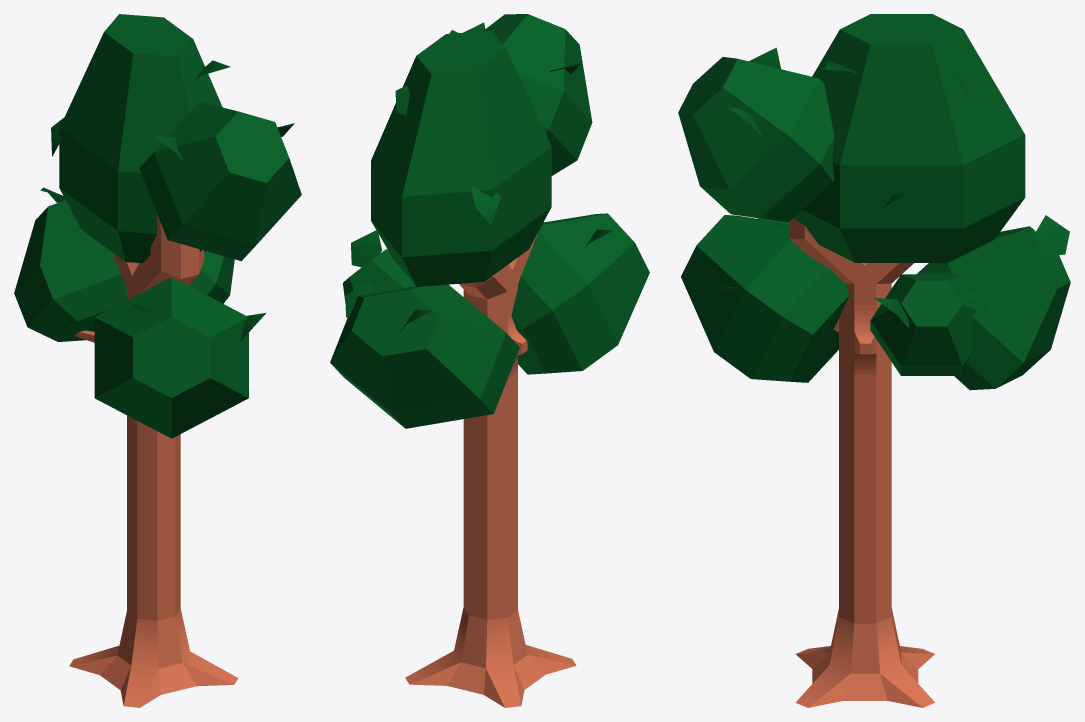
The model's file is tree.obj.
The picture shows the model from 3 angles, left to right: view 1: azimuth 30°, elevation 25°; view 2: azimuth 150°, elevation 25°; view 3: azimuth 270°, elevation 25°; orthographic projection. The views are drawn at different scales.
Parts seen in each view (by area): view 1: mergedBlocks; view 2: mergedBlocks; view 3: mergedBlocks.
Boxes of the visible parts, left/top/right/bottom form: mergedBlocks: left=14, top=14, right=301, bottom=707; mergedBlocks: left=330, top=14, right=649, bottom=707; mergedBlocks: left=678, top=14, right=1070, bottom=707.
Size of the model in its own units: 1.8 by 4.96 by 2.69.
